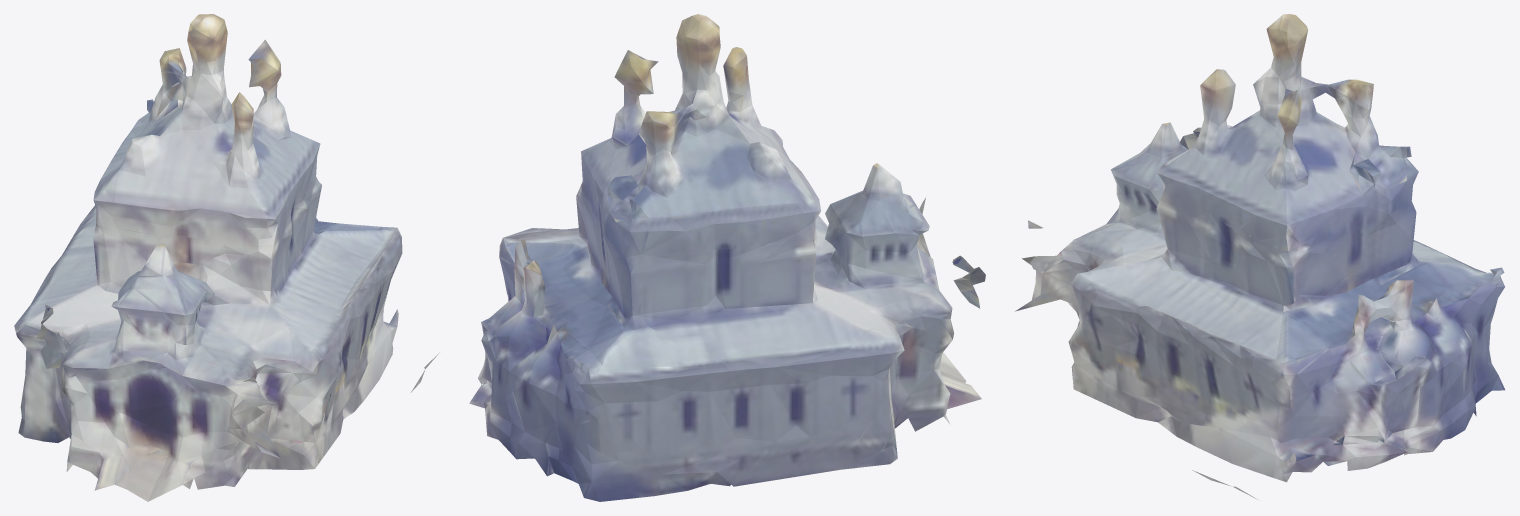
File: eglise-russe.glb
3 renders of one model, left to right at view 1: azimuth 30°, elevation 25°; view 2: azimuth 150°, elevation 25°; view 3: azimuth 270°, elevation 25°, orthographic. The views are drawn at different scales.
Bounding box in the file's own units: 27.87 × 23.18 × 27.22.
1 material, 1 textured.
